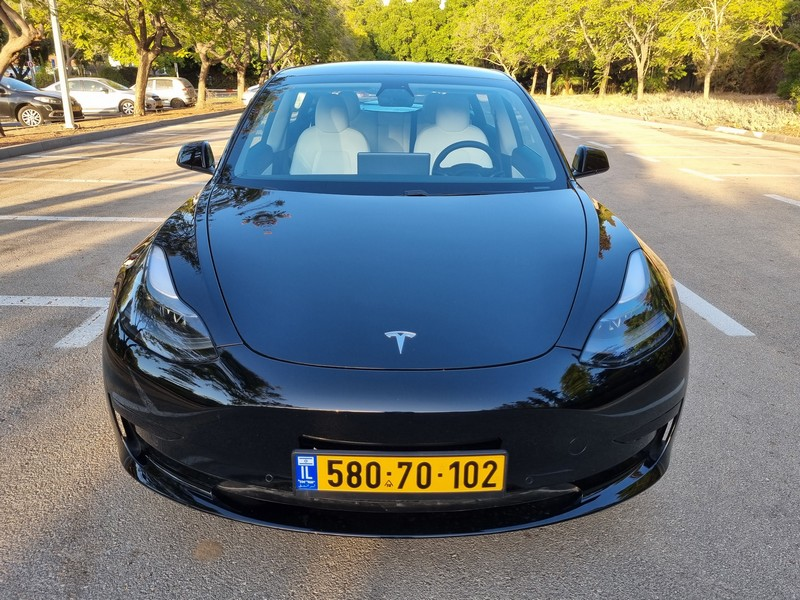licence: (292, 448, 509, 500)
